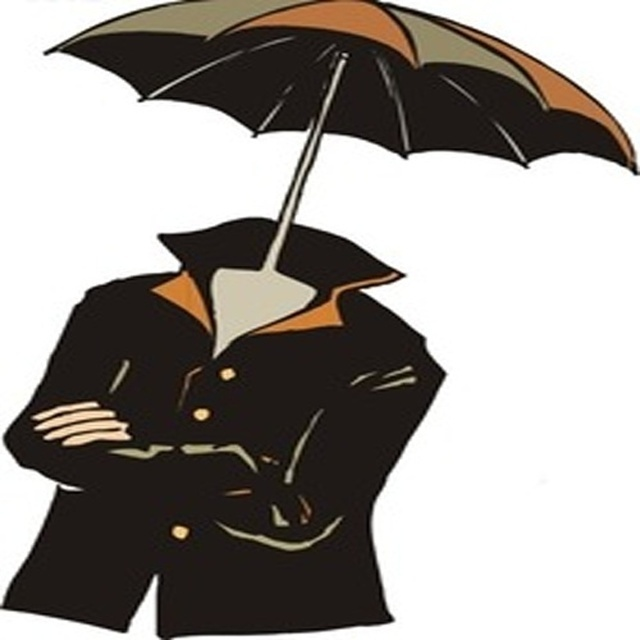umbrella: (40, 1, 640, 281)
